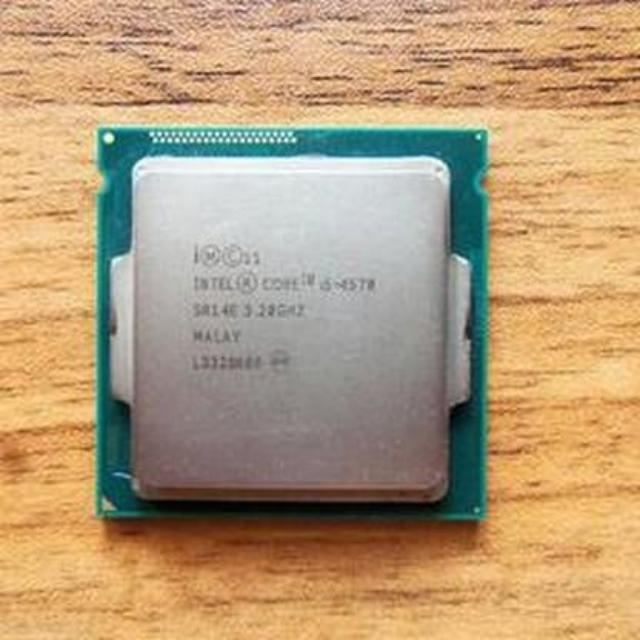CPU: (89, 129, 482, 503)
